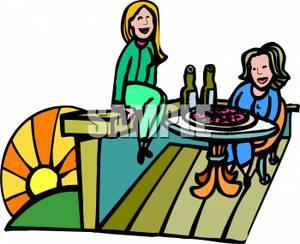bottle: (179, 63, 198, 118), (201, 63, 218, 111)
diningtable: (160, 111, 276, 199)
person: (105, 1, 171, 164), (220, 40, 285, 183)
